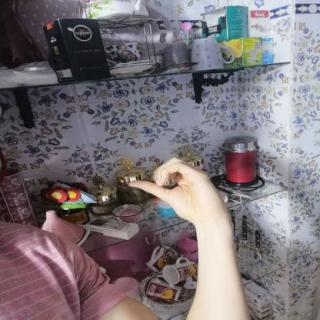WAW: (116, 150, 233, 228)
